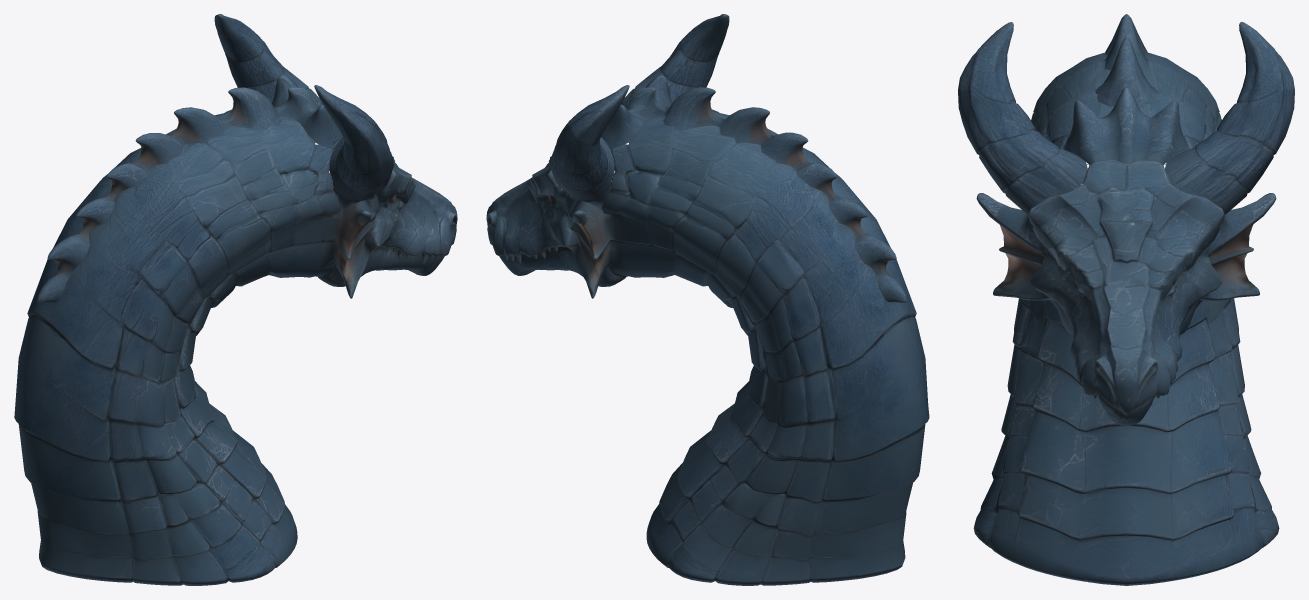
Rendered from ejder_kafa.glb.
3 views of the same model, side by side, from view 1: azimuth 30°, elevation 25°; view 2: azimuth 150°, elevation 25°; view 3: azimuth 270°, elevation 25° (orthographic). The views are drawn at different scales.
Parts seen in each view (by area): view 1: tripo_3732a6bd_dc81_473d_b82b_98c301926deb; view 2: tripo_3732a6bd_dc81_473d_b82b_98c301926deb; view 3: tripo_3732a6bd_dc81_473d_b82b_98c301926deb.
Part boxes in pixels (box(x1,y1,x2,y2)): tripo_3732a6bd_dc81_473d_b82b_98c301926deb: box(14, 14, 457, 585); tripo_3732a6bd_dc81_473d_b82b_98c301926deb: box(486, 14, 929, 585); tripo_3732a6bd_dc81_473d_b82b_98c301926deb: box(958, 14, 1294, 585).
Bounding box in the file's own units: 0.9751 × 0.9995 × 0.5483.
Materials: 1 (1 with a texture image).
